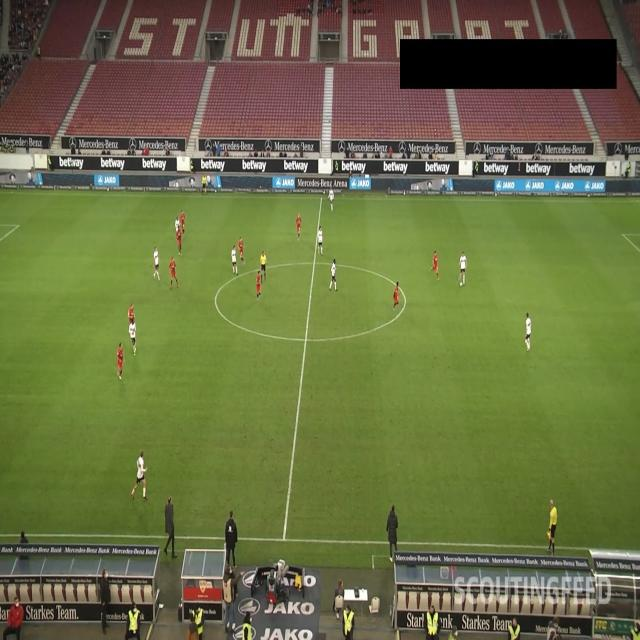ball: (459, 281, 464, 287)
